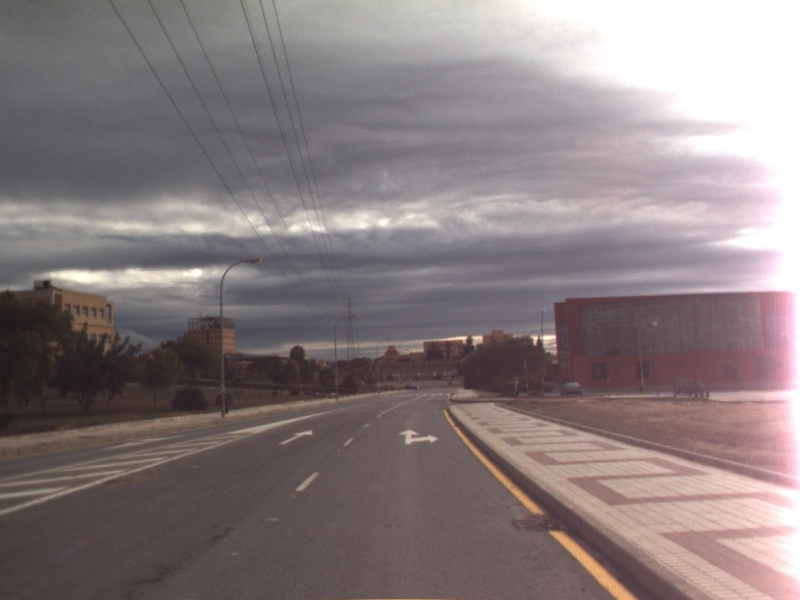STRAIGHT: (276, 427, 315, 447)
STRAIGHT_RIGHT: (396, 427, 441, 446)
